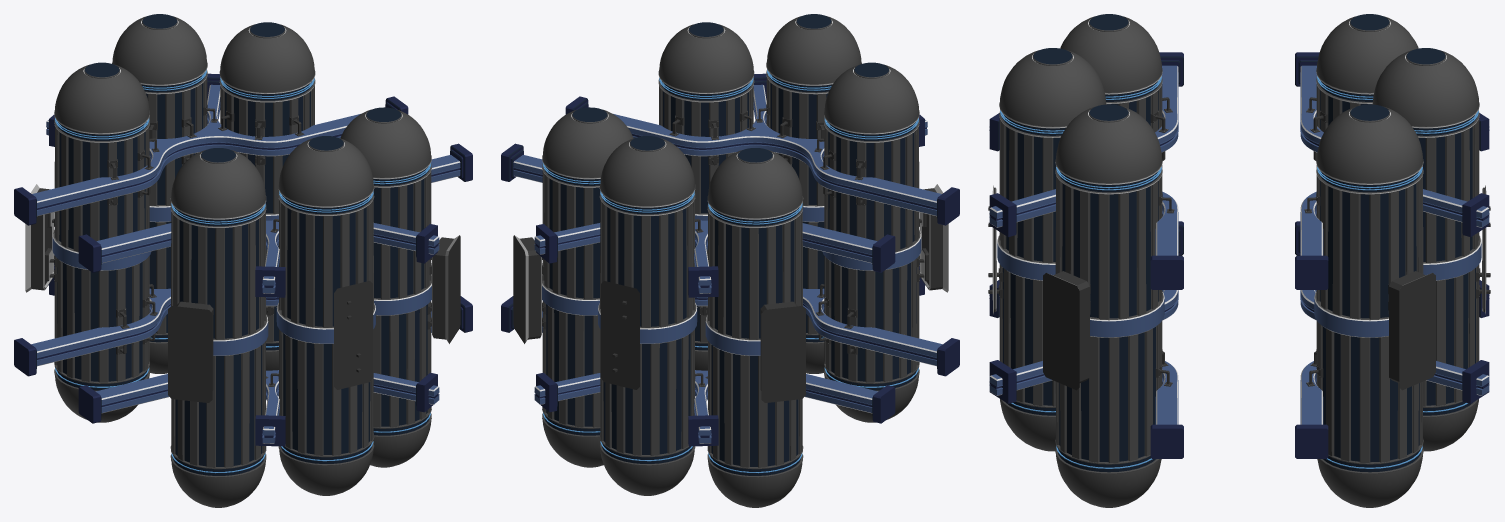
Rendered from AlphaTanks.fbx.
The picture shows the model from 3 angles, left to right: view 1: azimuth 30°, elevation 25°; view 2: azimuth 150°, elevation 25°; view 3: azimuth 270°, elevation 25°; orthographic projection. The views are drawn at different scales.
Visible parts, largest first — view 1: Tanks; view 2: Tanks; view 3: Tanks.
Boxes of the visible parts, x1,y1,x2,y2 form: Tanks: [14, 14, 472, 507]; Tanks: [501, 14, 959, 507]; Tanks: [988, 14, 1490, 507].
Size of the model in its own units: 3936 by 3525 by 4028.
